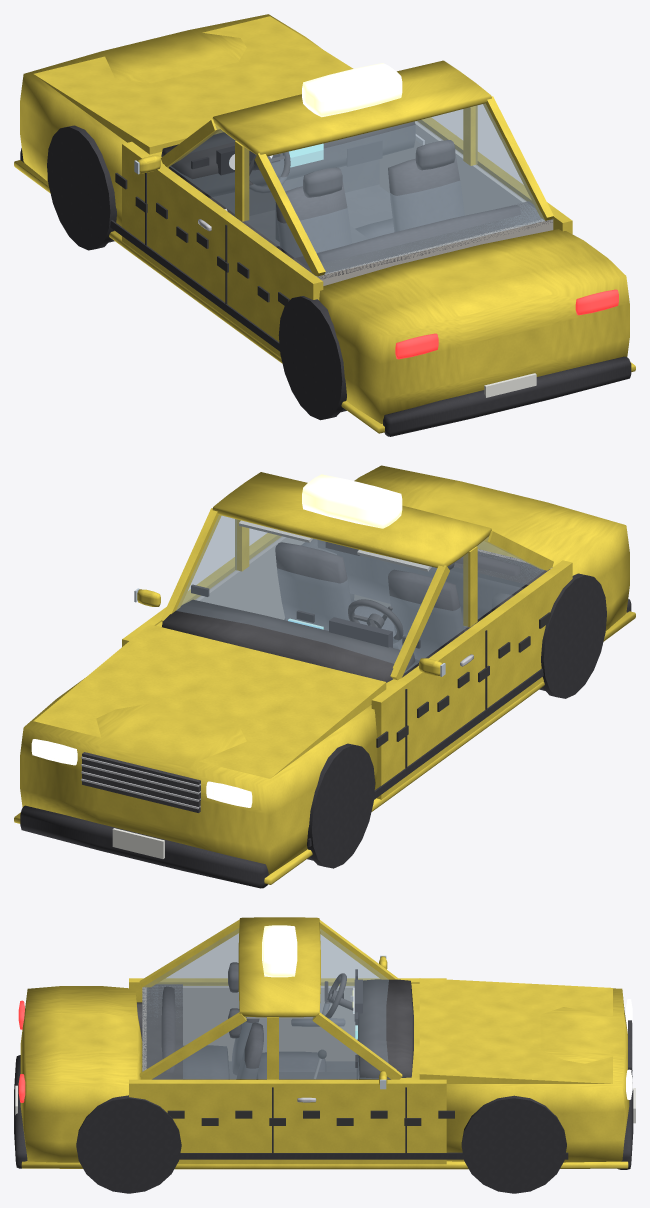
The model's file is taxi.glb.
3 views of the same model, one above another, from view 1: azimuth 30°, elevation 25°; view 2: azimuth 150°, elevation 25°; view 3: azimuth 270°, elevation 25° (orthographic). The views are drawn at different scales.
Visible parts, largest first — view 1: taxi_body; view 2: taxi_body; view 3: taxi_body.
Boxes of the visible parts, x1,y1,x2,y2 form: taxi_body: (14, 14, 635, 436); taxi_body: (14, 465, 635, 888); taxi_body: (14, 917, 635, 1193).
Bounding box in the file's own units: 2.18 × 1.63 × 4.6.
23 materials, 10 textured.
